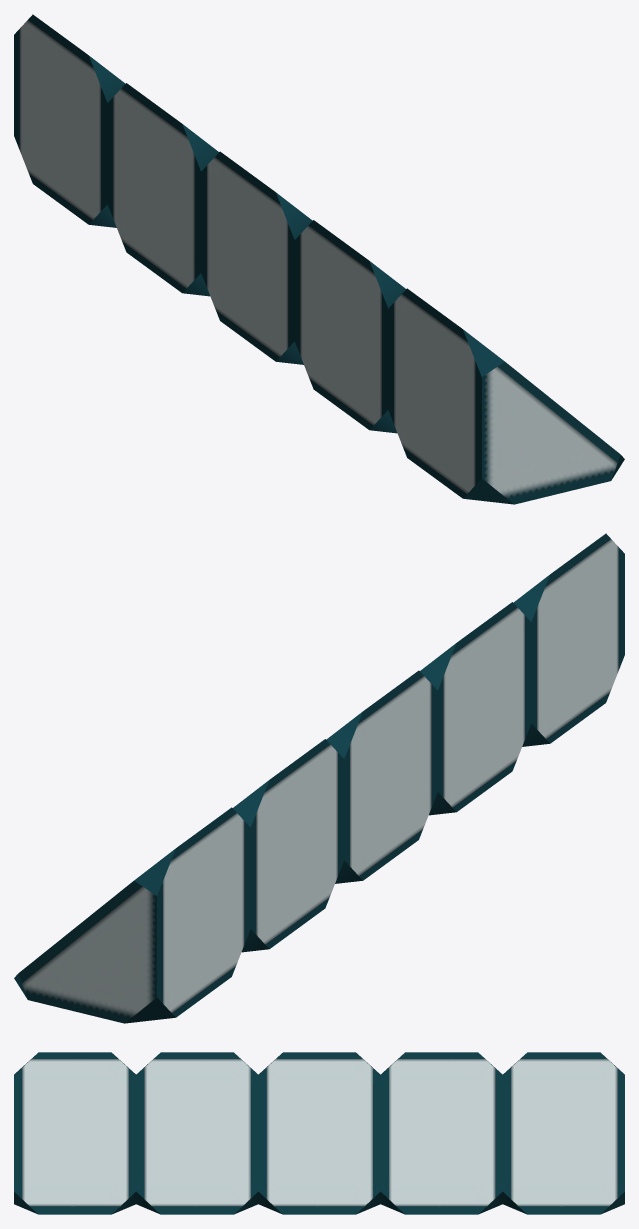
The model's file is MG-ChangJing-CeShi-LiFangPo-5.FBX.
The picture shows the model from 3 angles, top to bottom: view 1: azimuth 30°, elevation 25°; view 2: azimuth 150°, elevation 25°; view 3: azimuth 270°, elevation 25°; orthographic projection. The views are drawn at different scales.
Parts seen in each view (by area): view 1: MG-ChangJing-CeShi-LiFangPo-5; view 2: MG-ChangJing-CeShi-LiFangPo-5; view 3: MG-ChangJing-CeShi-LiFangPo-5.
Part boxes in pixels (bbox=[...]): MG-ChangJing-CeShi-LiFangPo-5: bbox=[14, 14, 624, 504]; MG-ChangJing-CeShi-LiFangPo-5: bbox=[14, 533, 624, 1023]; MG-ChangJing-CeShi-LiFangPo-5: bbox=[14, 1052, 624, 1214].
Bounding box in the file's own units: 39.37 × 39.37 × 197.
